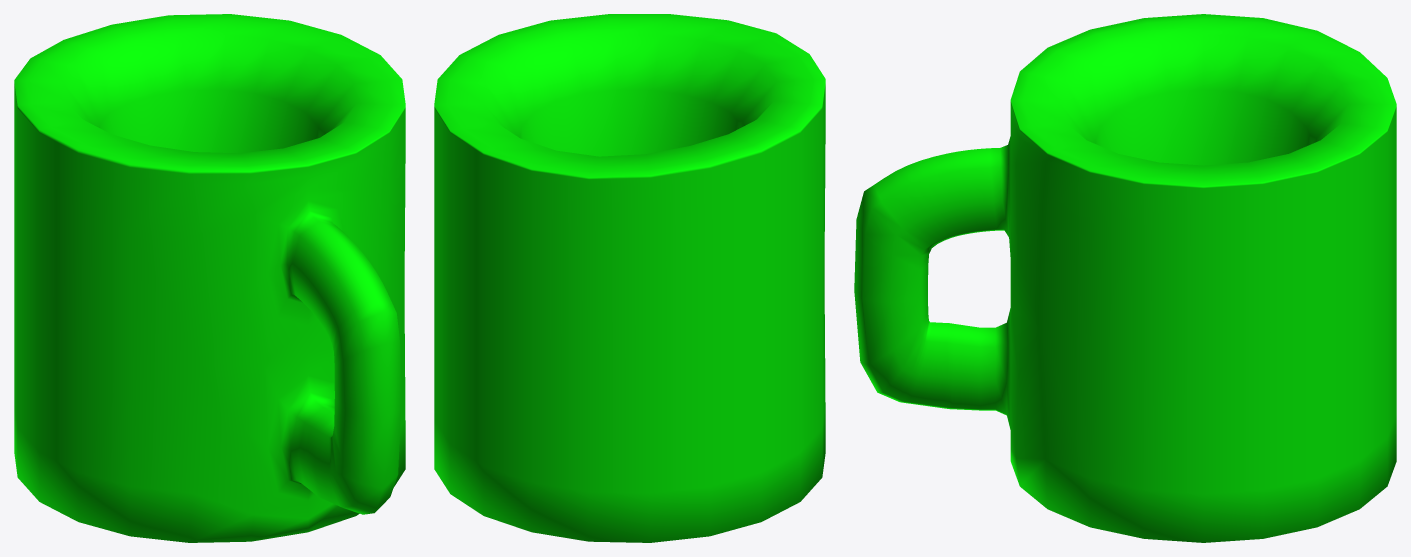
The model's file is muck.obj.
3 renders of one model, left to right at view 1: azimuth 30°, elevation 25°; view 2: azimuth 150°, elevation 25°; view 3: azimuth 270°, elevation 25°, orthographic.
Visible parts, largest first — view 1: pCylinder1; view 2: pCylinder1; view 3: pCylinder1.
Part boxes in pixels (left/top/right/bottom): pCylinder1: left=14, top=14, right=405, bottom=542; pCylinder1: left=434, top=14, right=825, bottom=542; pCylinder1: left=854, top=14, right=1396, bottom=542.
Bounding box in the file's own units: 5.71 × 6.14 × 8.02.
